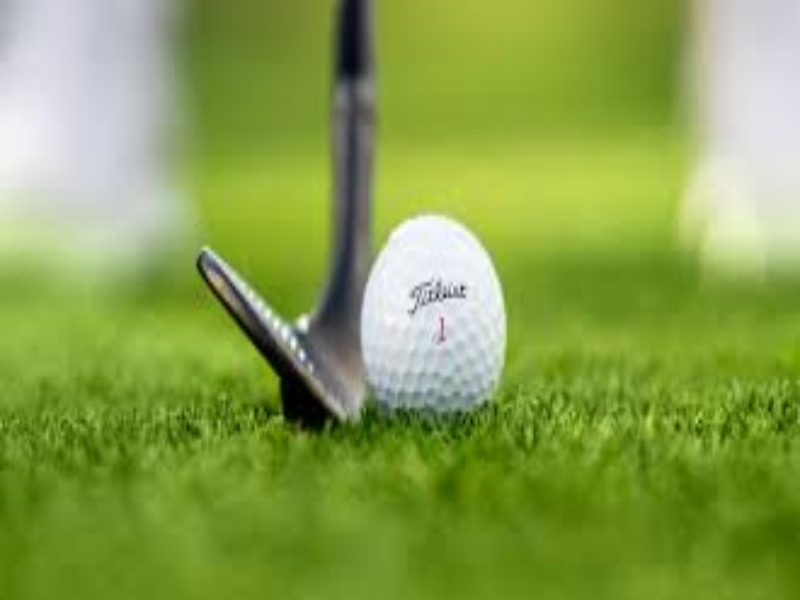golf_ball: (356, 215, 506, 412)
